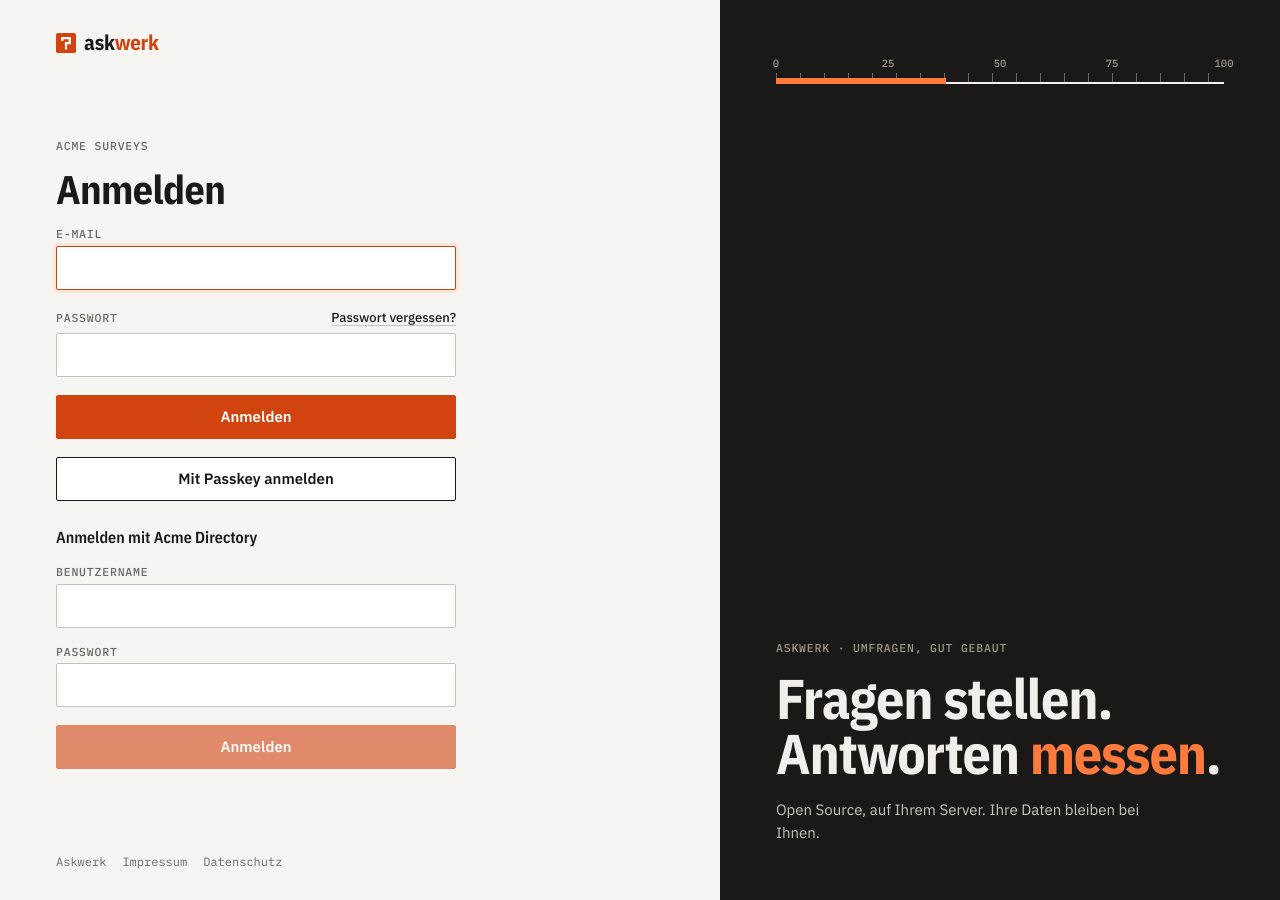
Test case: SignInPage (M1) › says when the directory password is wrong
The image size is (1280, 900).
Type "clara" into the field labelled "Benutzername" at {"x": 256, "y": 606}, box left=56, top=584, right=456, bottom=628
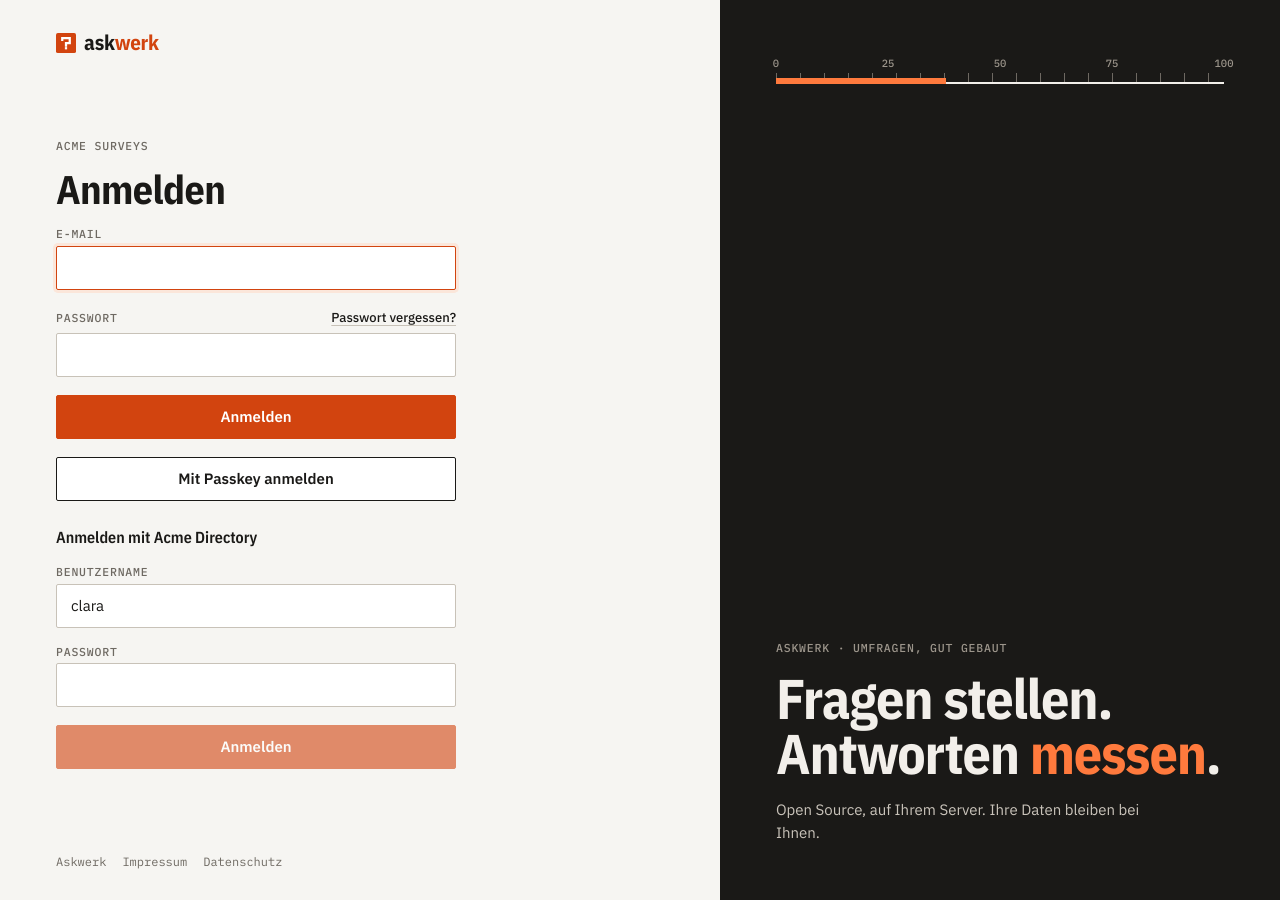
Type "nope" into the password field labelled "Passwort" below "Benutzername" at {"x": 256, "y": 685}, box left=56, top=663, right=456, bottom=707
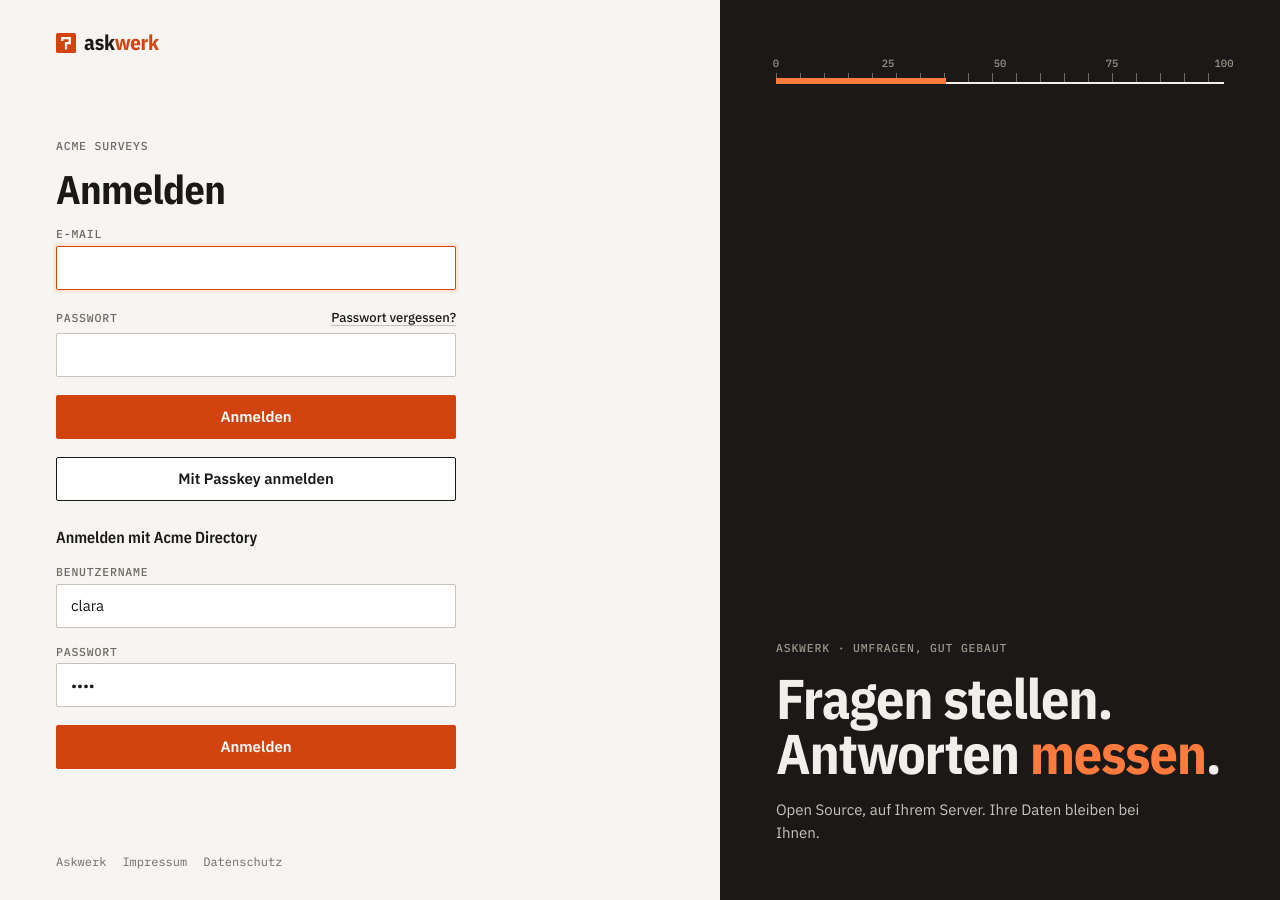
Click the button "Anmelden" below "Benutzername" at {"x": 256, "y": 747}, box left=56, top=725, right=456, bottom=769
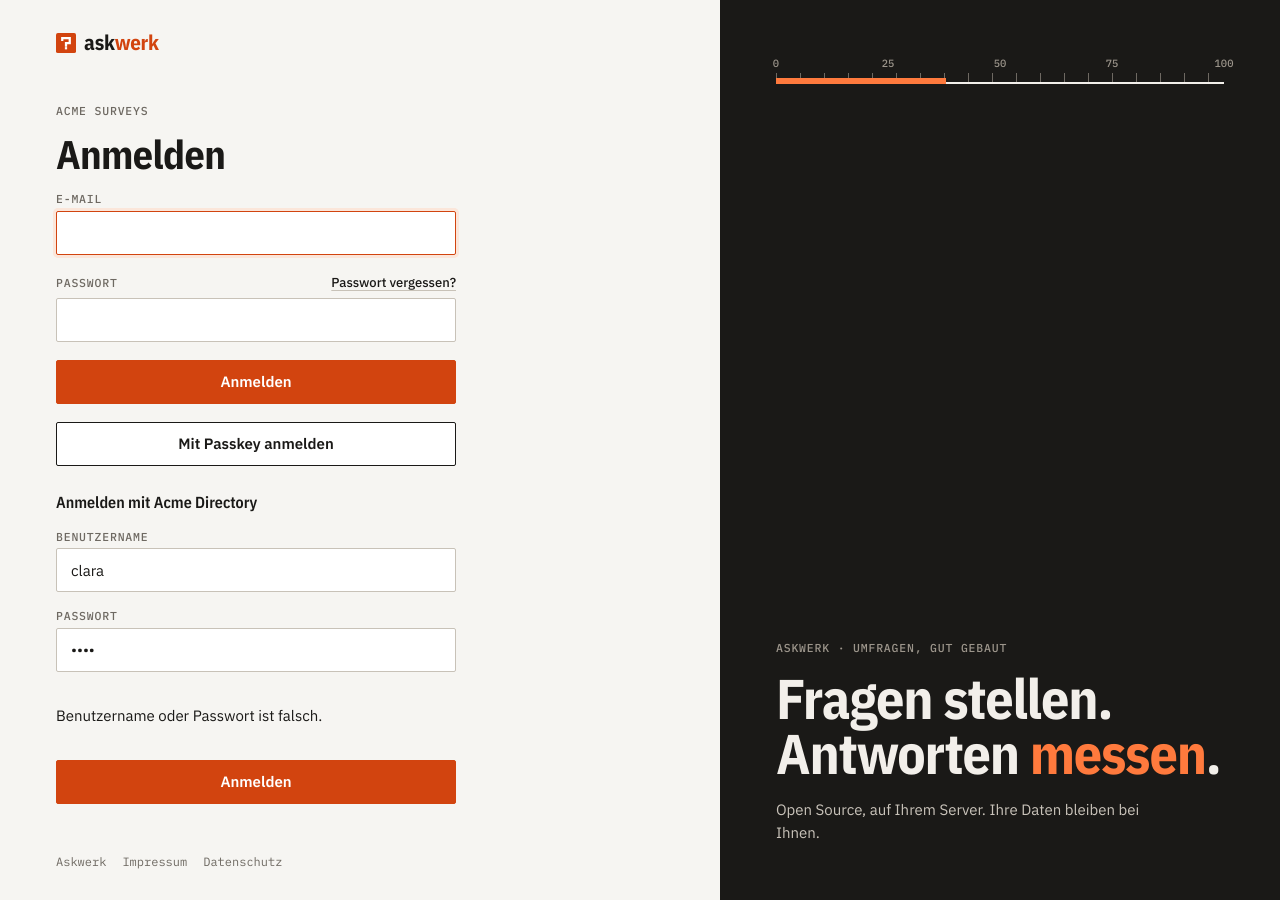
Expected: the message reads "Benutzername oder Passwort ist falsch.", left=56, top=706, right=322, bottom=725
